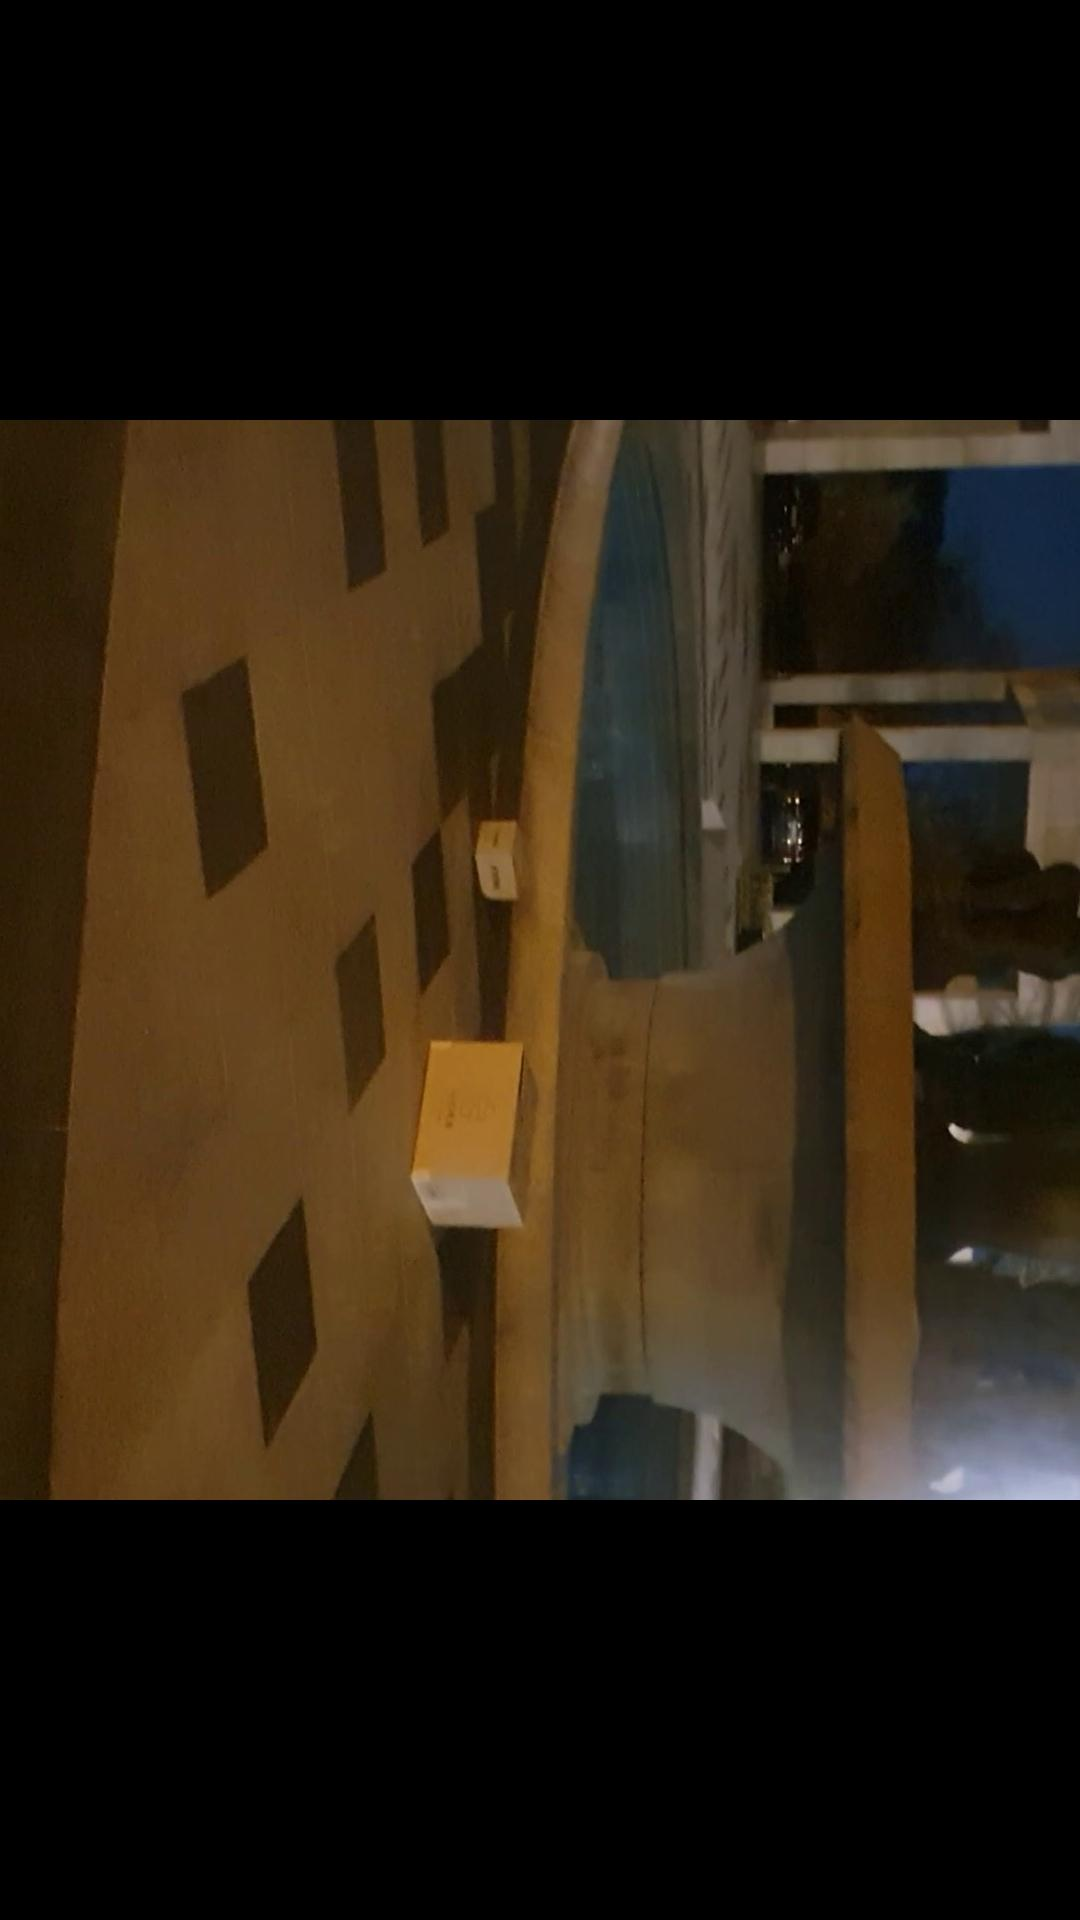Box: (388, 1029, 555, 1251), (460, 808, 535, 916)
